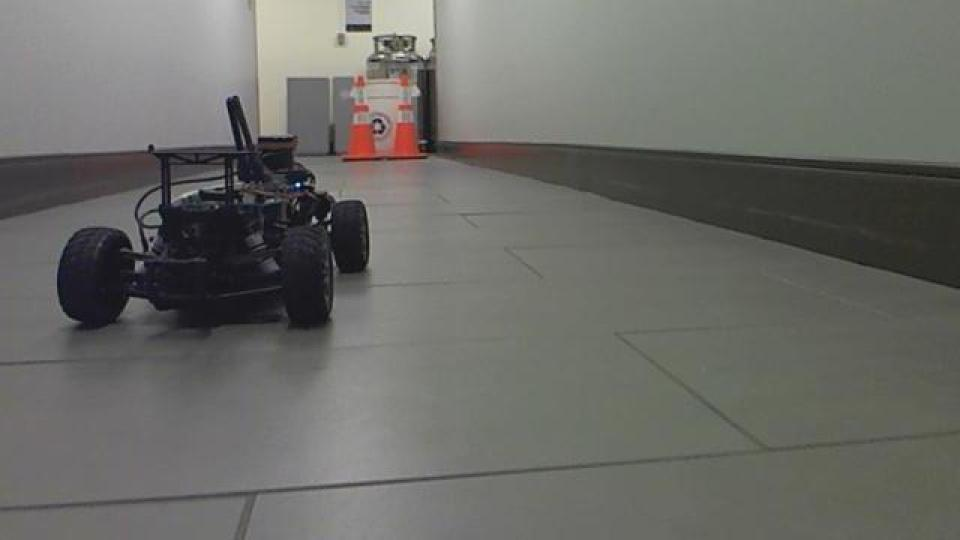car: (52, 93, 372, 335)
